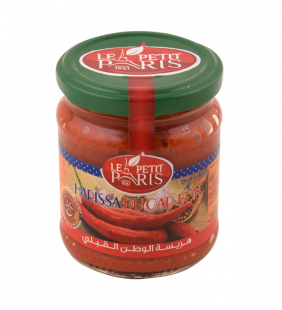LE PETIT PARIS: (50, 25, 229, 285)
